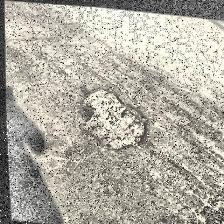pothole: (70, 82, 154, 154)
